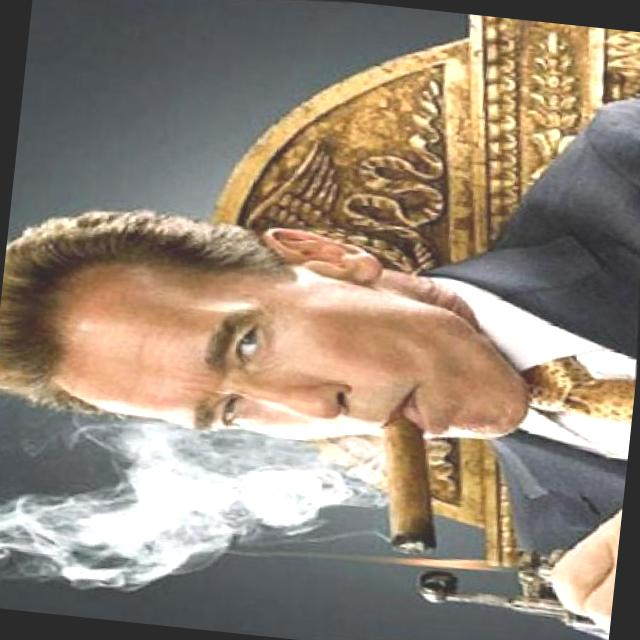cigarette: (359, 374, 461, 563)
